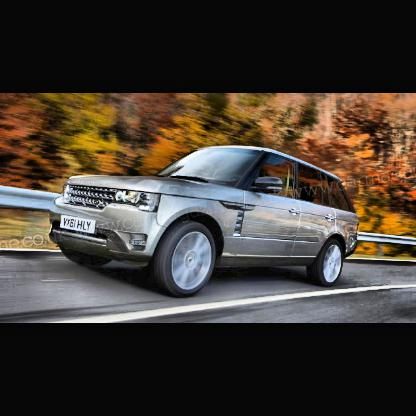Land Rover Range Rover SUV 2012: (50, 145, 363, 298)
